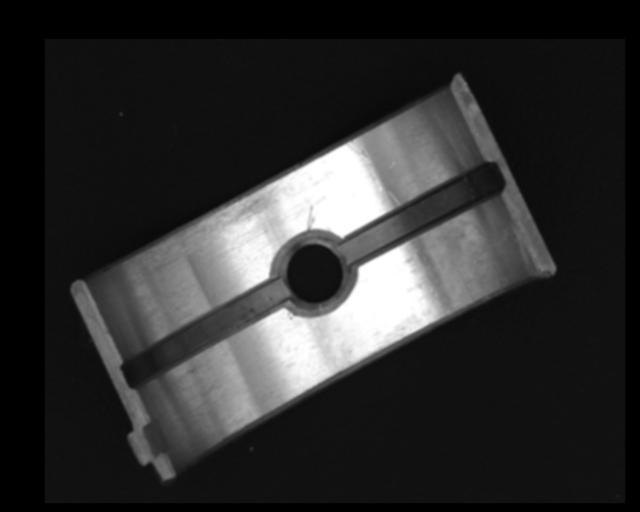gap: (120, 278, 286, 387), (344, 164, 501, 261)
hole: (276, 234, 353, 313)
nick: (346, 140, 383, 193), (305, 204, 315, 229)
scratch: (130, 183, 276, 271)
